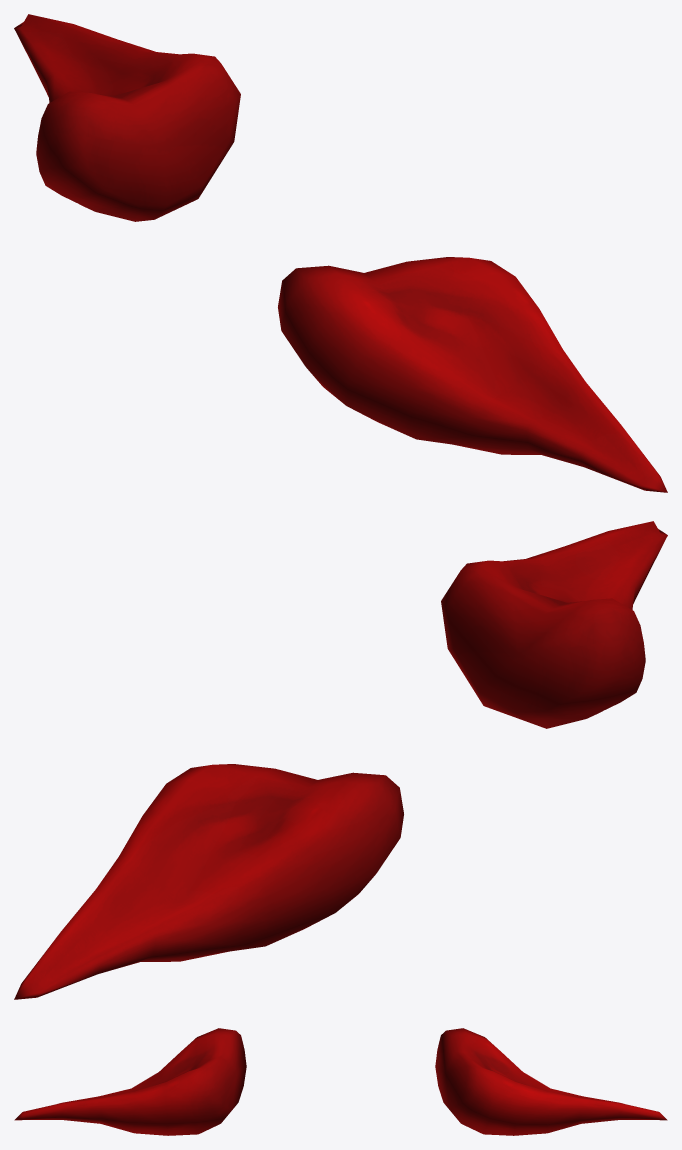
3 views of the same model, one above another, from view 1: azimuth 30°, elevation 25°; view 2: azimuth 150°, elevation 25°; view 3: azimuth 270°, elevation 25° (orthographic). The views are drawn at different scales.
Parts seen in each view (by area): view 1: B1213; view 2: B1213; view 3: B1213.
Part boxes in pixels (x1,y1,x2,y2): B1213: (14, 14, 667, 492); B1213: (14, 521, 667, 999); B1213: (14, 1028, 667, 1135).
Bounding box in the file's own units: 0.1483 × 0.1027 × 0.7759.
